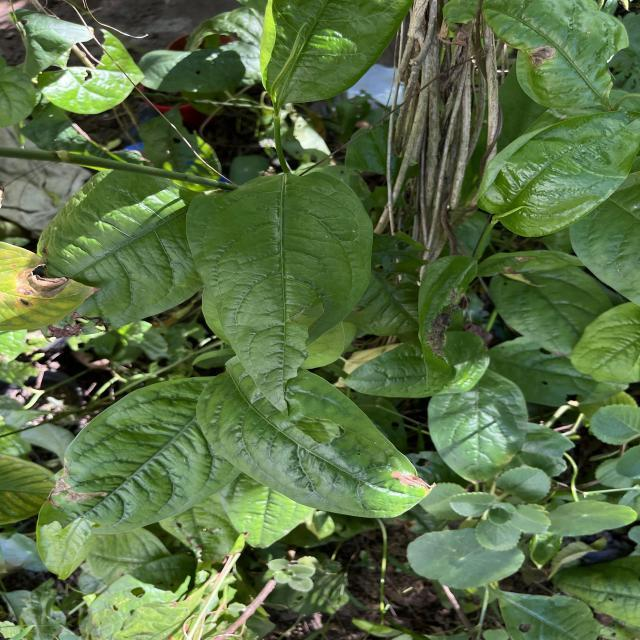Plumbago indica: (176, 169, 376, 407), (192, 357, 438, 522), (43, 372, 236, 540), (467, 108, 640, 240), (428, 364, 530, 484)
